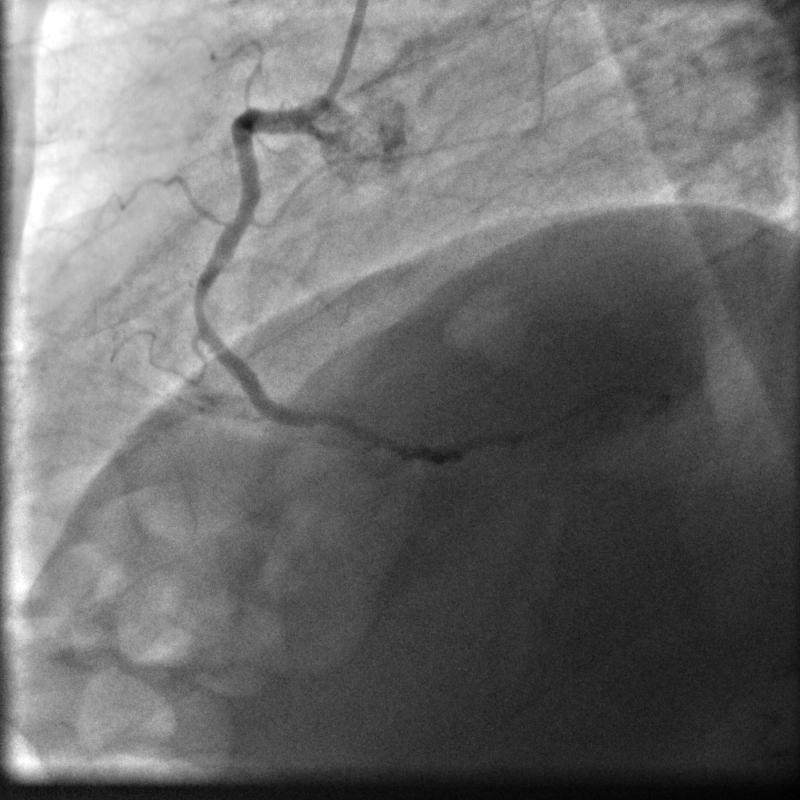Stenosis: (188, 296, 207, 319)
